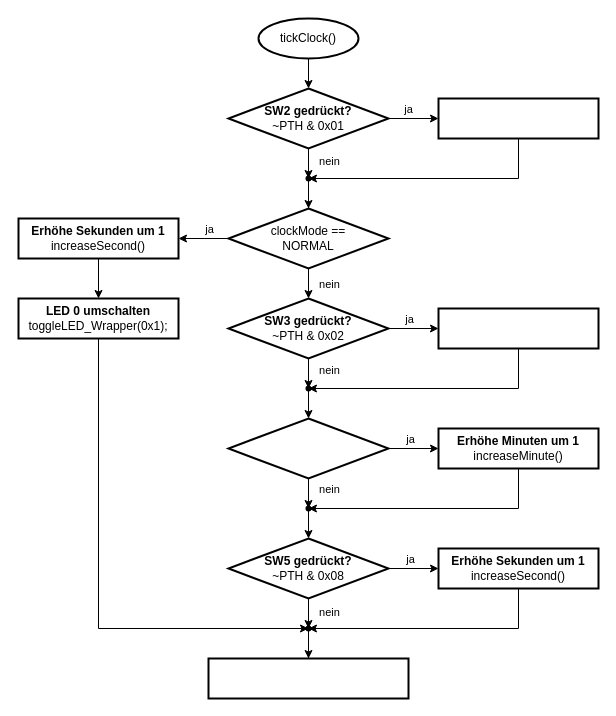
Image size: 616x716. Some labels were removed from this diagram. The centre of each missing label's shape, as x and y in pixels:
"Erhöhe Stunden um 1 increaseHour()" belongs at (518,328).
"Schreibe Zeit in outputString timeToString()" belongs at (308,678).
"SW4 gedrückt? ~PTH & 0x04" belongs at (308,448).
"Uhrmodus umschalten toggleClockMode()" belongs at (518,118).
